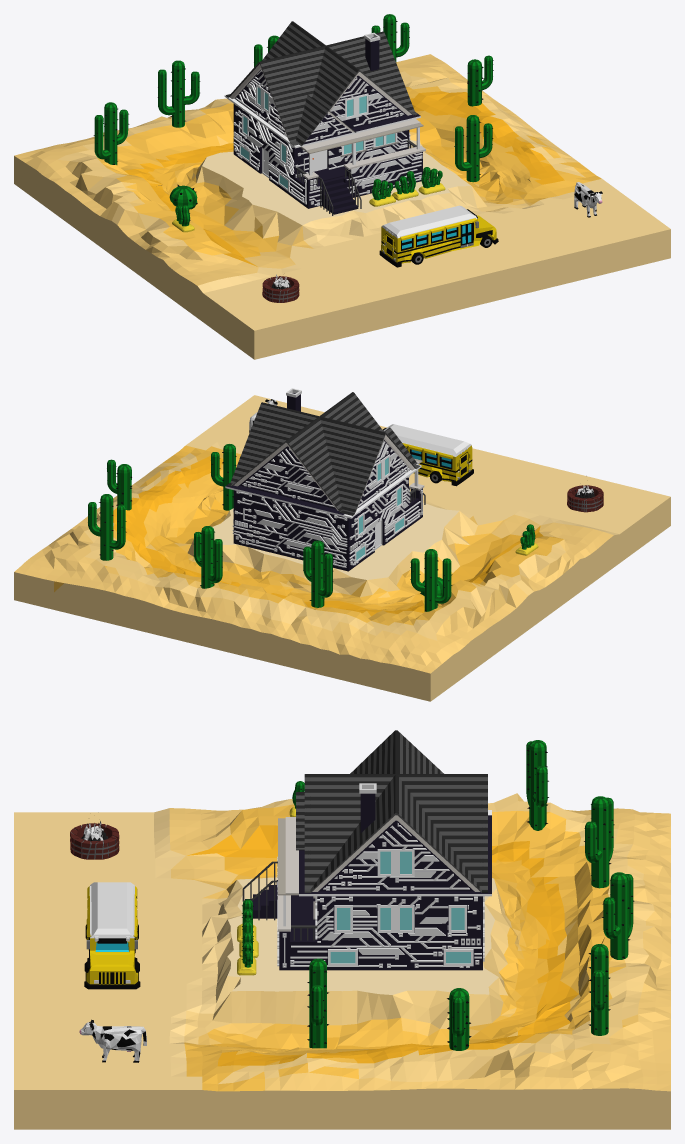
3 views of the same model, one above another, from view 1: azimuth 30°, elevation 25°; view 2: azimuth 150°, elevation 25°; view 3: azimuth 270°, elevation 25° (orthographic). The views are drawn at different scales.
Parts seen in each view (by area): view 1: Cube.001, Cube.918, VEHICLES_SCHOOL_BUS, Cylinder.037, Cylinder.044, Cylinder.045, Cylinder.038, OBJRANDOM_CAMPFIRE, Cylinder.042, ANIMAL_VACA, Cylinder.039, Cylinder.041 (+2 smaller); view 2: Cube.001, Cube.918, VEHICLES_SCHOOL_BUS, Cylinder.042, Cylinder.045, Cylinder.044, Cylinder.043, Cylinder.037, Cylinder.038, OBJRANDOM_CAMPFIRE; view 3: Cube.001, Cube.918, VEHICLES_SCHOOL_BUS, Cylinder.043, Cylinder.044, Cylinder.045, Cylinder.042, OBJRANDOM_CAMPFIRE, Cylinder.037, ANIMAL_VACA, Cylinder.038, Cylinder.041.
Part boxes in pixels (left/top/right/bottom): Cube.001: left=14, top=54, right=670, bottom=359; Cube.918: left=224, top=21, right=425, bottom=215; VEHICLES_SCHOOL_BUS: left=379, top=205, right=498, bottom=267; Cylinder.037: left=454, top=115, right=493, bottom=182; Cylinder.044: left=157, top=60, right=200, bottom=127; Cylinder.045: left=93, top=102, right=129, bottom=164; Cylinder.038: left=467, top=55, right=493, bottom=106; OBJRANDOM_CAMPFIRE: left=262, top=274, right=299, bottom=302; Cylinder.042: left=371, top=14, right=409, bottom=62; ANIMAL_VACA: left=574, top=182, right=602, bottom=217; Cylinder.039: left=369, top=179, right=395, bottom=206; Cylinder.041: left=418, top=167, right=445, bottom=194; Cube.001: left=14, top=395, right=670, bottom=701; Cube.918: left=225, top=388, right=425, bottom=571; VEHICLES_SCHOOL_BUS: left=383, top=424, right=473, bottom=486; Cylinder.042: left=88, top=494, right=126, bottom=560; Cylinder.045: left=410, top=549, right=452, bottom=611; Cylinder.044: left=303, top=540, right=333, bottom=607; Cylinder.043: left=193, top=526, right=222, bottom=588; Cylinder.037: left=211, top=444, right=240, bottom=510; Cylinder.038: left=107, top=459, right=131, bottom=510; OBJRANDOM_CAMPFIRE: left=567, top=484, right=603, bottom=512; Cube.001: left=14, top=793, right=670, bottom=1129; Cube.918: left=242, top=730, right=491, bottom=970; VEHICLES_SCHOOL_BUS: left=84, top=882, right=140, bottom=989; Cylinder.043: left=602, top=872, right=634, bottom=959; Cylinder.044: left=584, top=796, right=614, bottom=888; Cylinder.045: left=526, top=740, right=548, bottom=830; Cylinder.042: left=588, top=944, right=610, bottom=1035; OBJRANDOM_CAMPFIRE: left=70, top=821, right=119, bottom=859; Cylinder.037: left=307, top=958, right=328, bottom=1048; ANIMAL_VACA: left=79, top=1019, right=146, bottom=1062; Cylinder.038: left=447, top=988, right=471, bottom=1050; Cylinder.041: left=237, top=932, right=256, bottom=975.
Bounding box in the file's own units: 4002 × 1605 × 4001.
38 materials, 2 textured.
